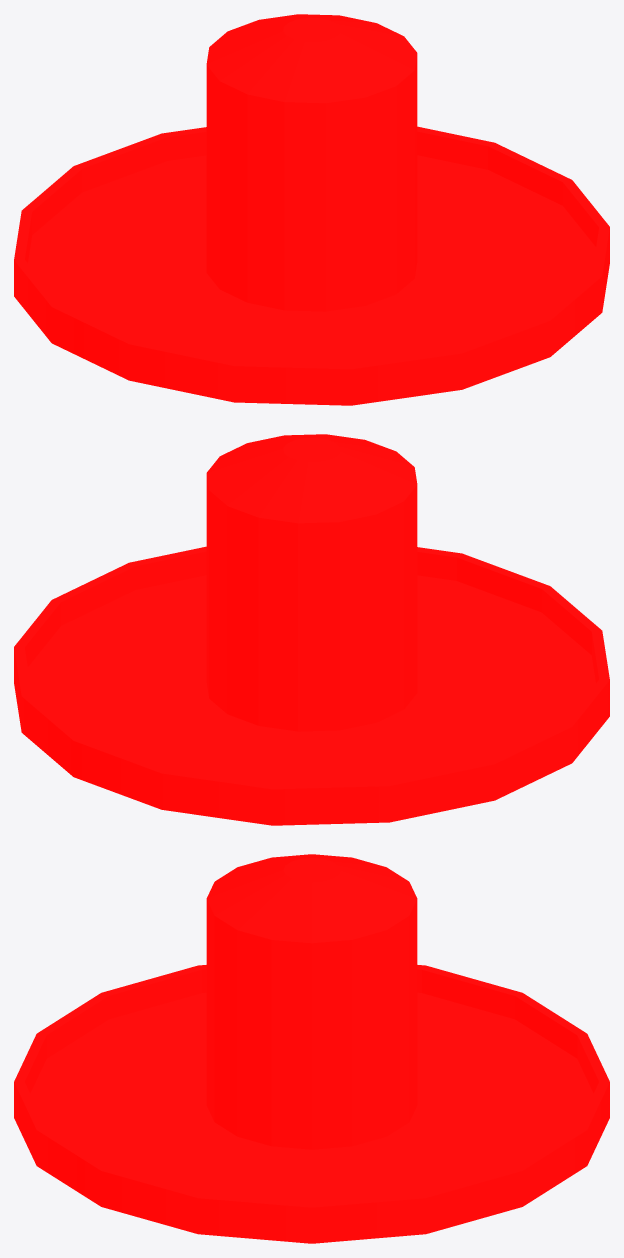
File: handle_001.FBX
The picture shows the model from 3 angles, top to bottom: view 1: azimuth 30°, elevation 25°; view 2: azimuth 150°, elevation 25°; view 3: azimuth 270°, elevation 25°; orthographic projection.
Visible parts, largest first — view 1: Cylinder001; view 2: Cylinder001; view 3: Cylinder001.
Part boxes in pixels (x1,y1,x2,y2): Cylinder001: (14,14,609,405); Cylinder001: (14,434,609,825); Cylinder001: (14,854,609,1243).
Bounding box in the file's own units: 118 × 54.18 × 118.
